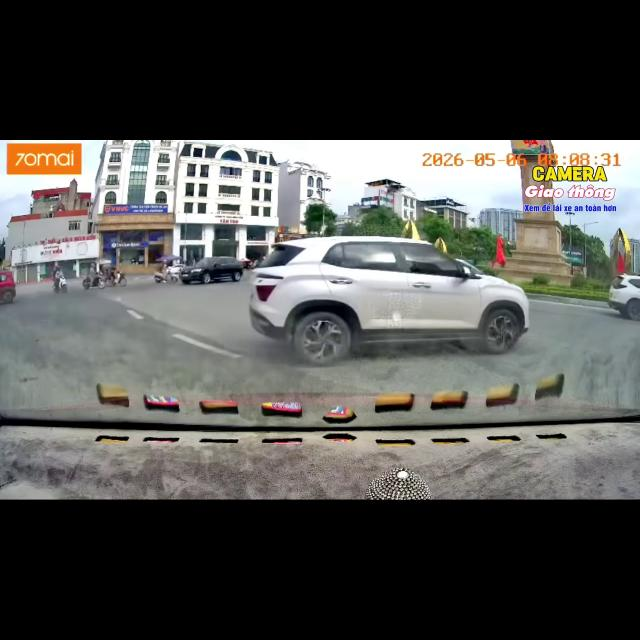car: (249, 237, 529, 365), (180, 257, 243, 283), (608, 274, 639, 320), (456, 259, 508, 283), (0, 271, 15, 302)
motorcycle: (154, 265, 183, 282), (105, 271, 127, 287), (83, 275, 105, 289), (53, 275, 67, 293), (154, 273, 178, 282), (240, 259, 255, 269), (116, 272, 126, 286)
